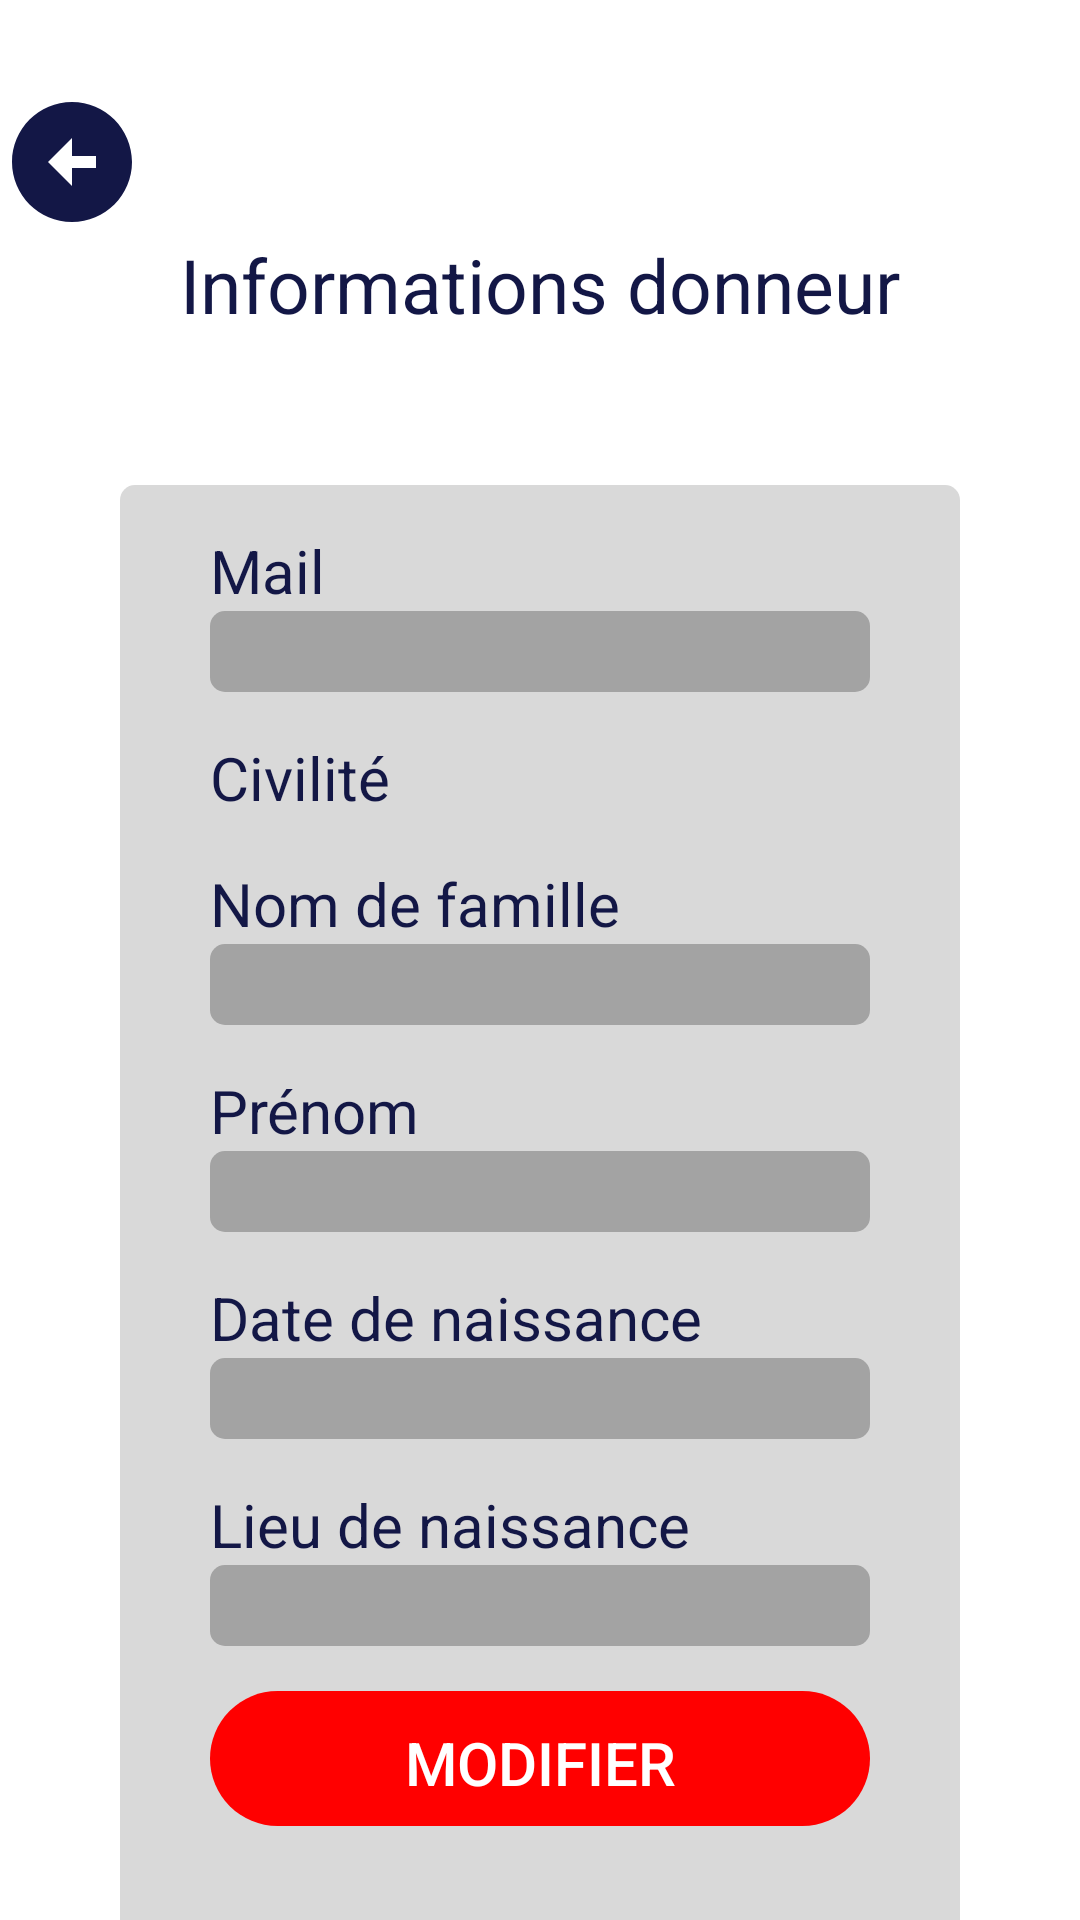

Screen size 1080×1920. Icon name, then its center in pixels as (x=x, y=y):
arrow circle left: (x=72, y=162)
